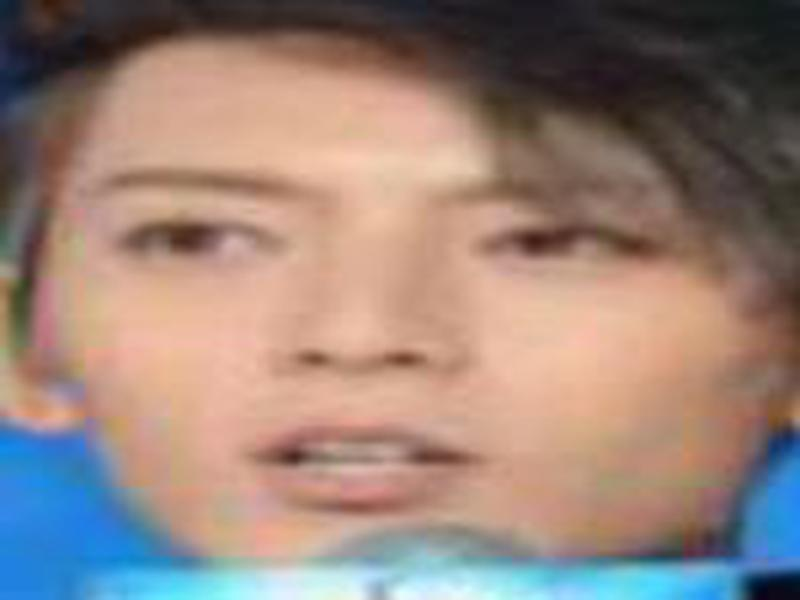without_mask: (57, 38, 751, 572)
